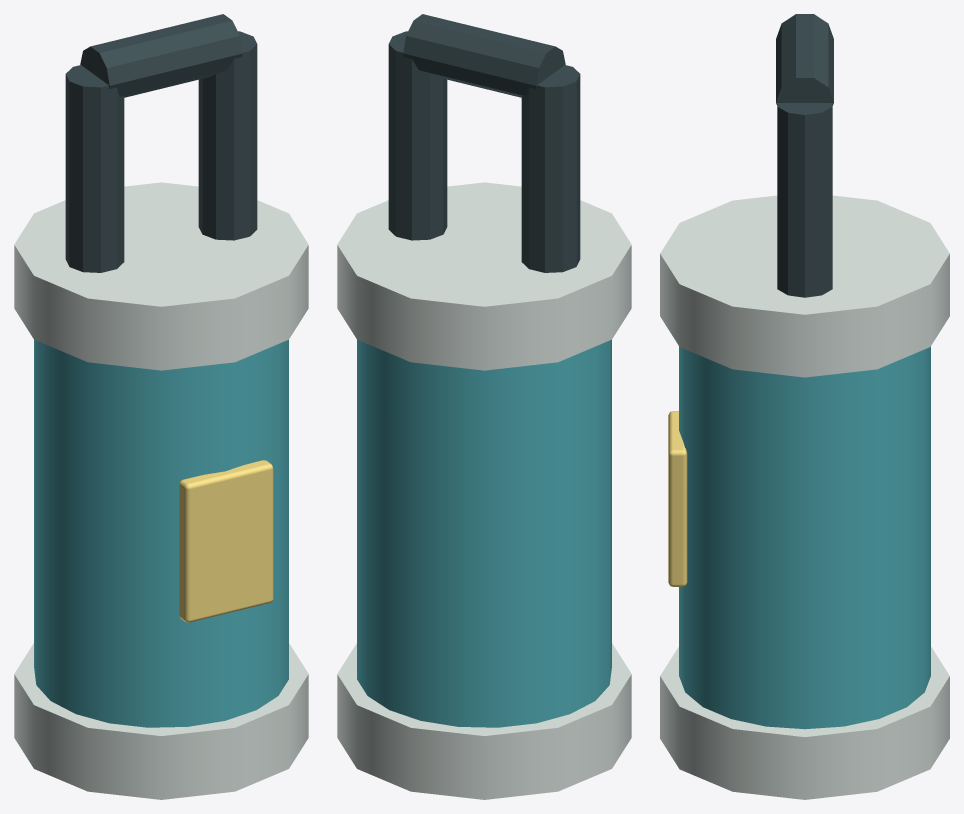
Rendered from diving-and-underwater-salvage-specimen-canister-d6e9ed5c__28456.glb.
3 views of the same model, side by side, from view 1: azimuth 30°, elevation 25°; view 2: azimuth 150°, elevation 25°; view 3: azimuth 270°, elevation 25° (orthographic).
Visible parts, largest first — view 1: specimen-canister-glass, specimen-canister-pale, specimen-canister-dark, specimen-canister-yellow; view 2: specimen-canister-glass, specimen-canister-pale, specimen-canister-dark; view 3: specimen-canister-glass, specimen-canister-pale, specimen-canister-dark, specimen-canister-yellow.
Part boxes in pixels (x1,y1,x2,y2): specimen-canister-glass: [34, 339, 288, 727]; specimen-canister-pale: [14, 182, 308, 799]; specimen-canister-dark: [65, 14, 257, 272]; specimen-canister-yellow: [179, 460, 273, 622]; specimen-canister-glass: [357, 339, 611, 727]; specimen-canister-pale: [337, 182, 631, 799]; specimen-canister-dark: [388, 14, 580, 272]; specimen-canister-glass: [679, 346, 930, 729]; specimen-canister-pale: [660, 195, 949, 799]; specimen-canister-dark: [776, 14, 833, 297]; specimen-canister-yellow: [668, 411, 687, 586].
Bounding box in the file's own units: 0.23 × 0.6069 × 0.23.
